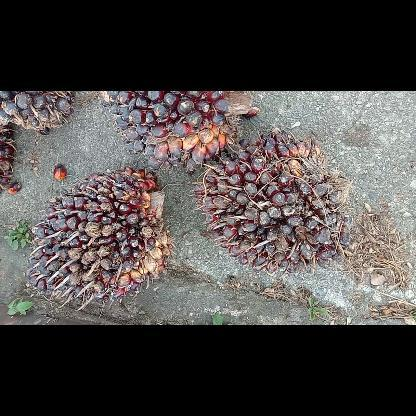TBS mentah: (198, 130, 350, 272), (30, 167, 170, 304), (100, 92, 258, 170), (0, 91, 76, 135)
